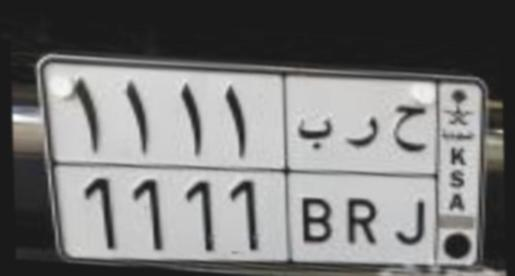License_Plate: (28, 43, 499, 276)
